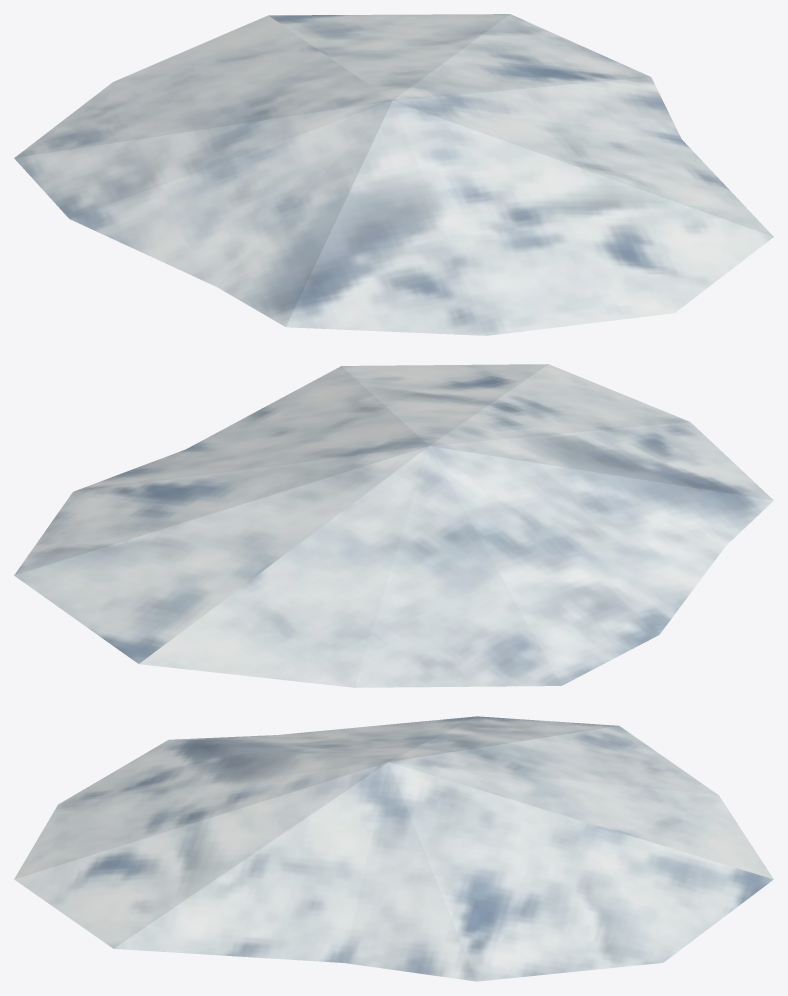
File: snowpile.obj
3 views of the same model, one above another, from view 1: azimuth 30°, elevation 25°; view 2: azimuth 150°, elevation 25°; view 3: azimuth 270°, elevation 25° (orthographic). The views are drawn at different scales.
Visible parts, largest first — view 1: circle; view 2: circle; view 3: circle.
Boxes of the visible parts, x1,y1,x2,y2 form: circle: (14,14,773,335); circle: (14,364,773,687); circle: (14,716,773,981).
Bounding box in the file's own units: 0.3563 × 0.05 × 0.4313.
Materials: 1 (1 with a texture image).
